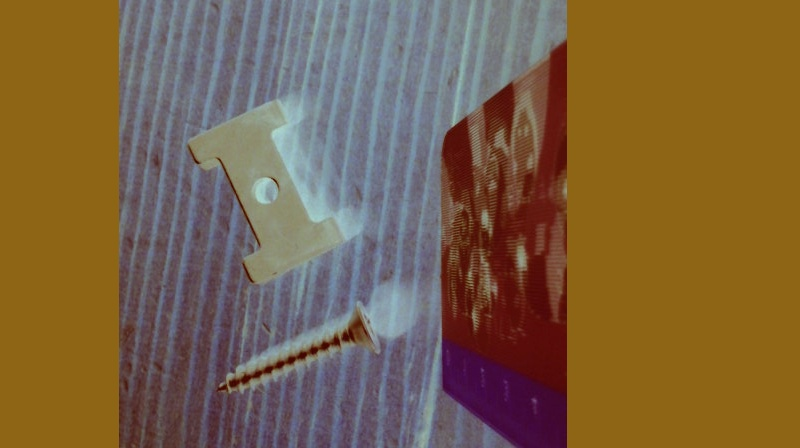O002: (185, 96, 349, 284)
S001: (216, 299, 381, 398)
